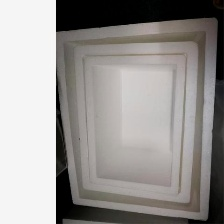foam_box: (56, 14, 221, 224)
